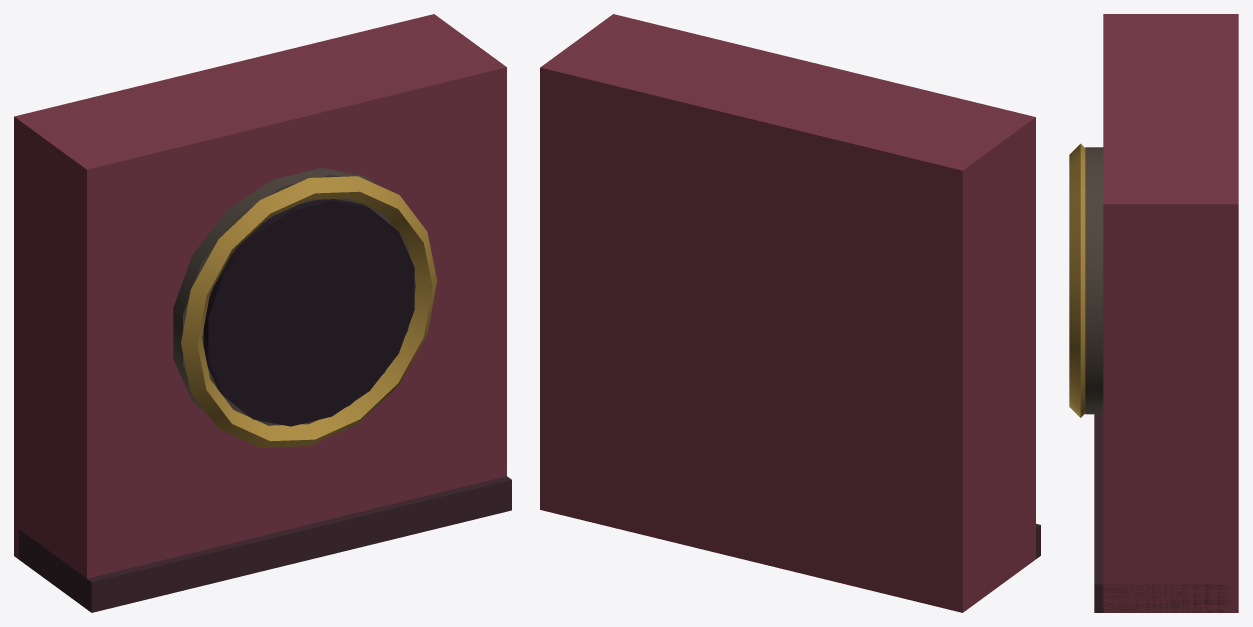
The model's file is criminal_wall_port.glb.
3 views of the same model, side by side, from view 1: azimuth 30°, elevation 25°; view 2: azimuth 150°, elevation 25°; view 3: azimuth 270°, elevation 25° (orthographic). The views are drawn at different scales.
Parts seen in each view (by area): view 1: criminal_wall_port; view 2: criminal_wall_port; view 3: criminal_wall_port.
Part boxes in pixels (x1,y1,x2,y2): criminal_wall_port: [14, 14, 511, 612]; criminal_wall_port: [540, 14, 1040, 612]; criminal_wall_port: [1069, 14, 1238, 612].
Bounding box in the file's own units: 1 × 1 × 0.375.
